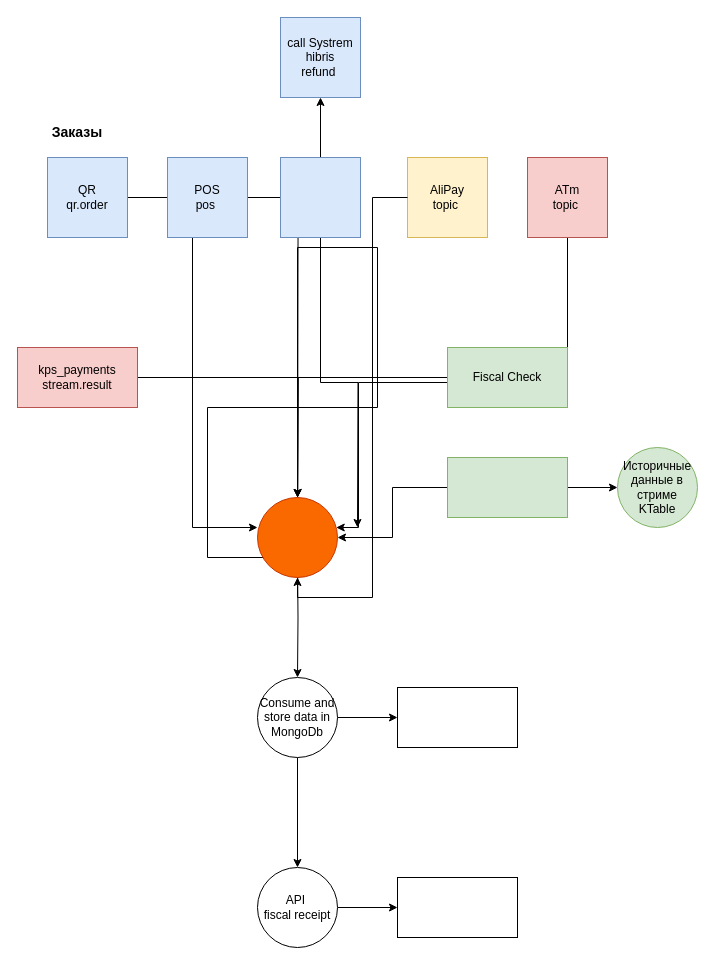
Image size: 715x965. Some labels were removed from this diagram. Here are the shapes that lost their labels. From the top down, the centre of each, then its label:
(320,197): Shop topic
(507,487): Точка магазина
(297,537): Final Fiscal Receipt
(457,717): Python consumer
(457,907): Backend FastApi
